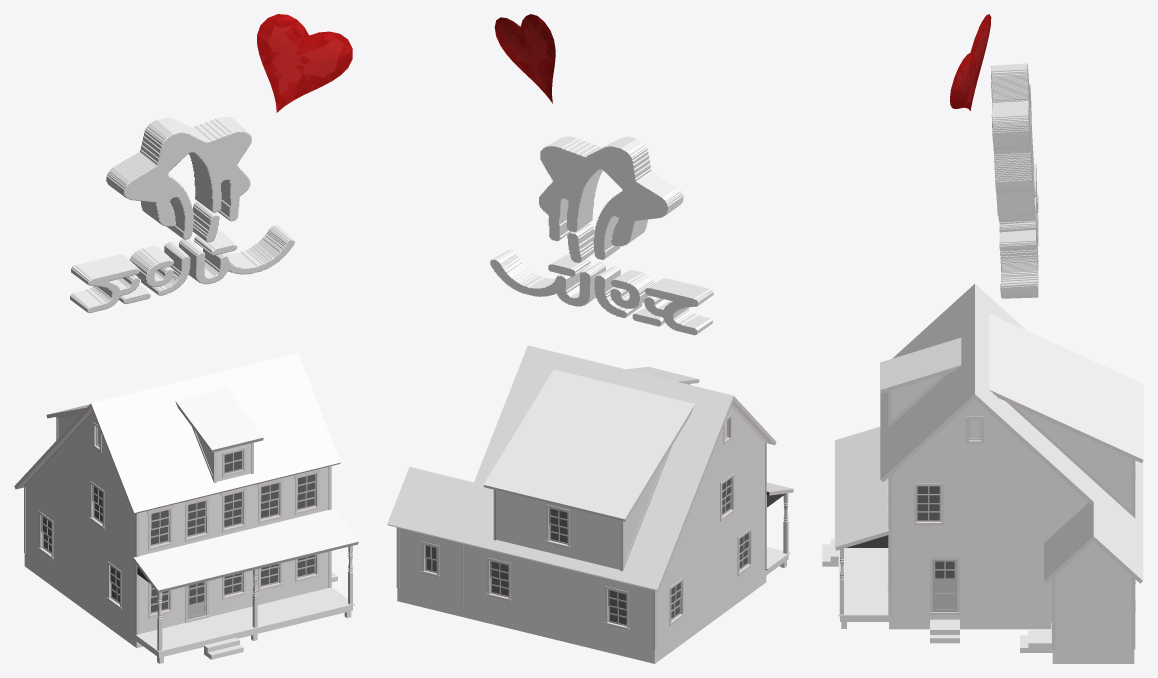
The model's file is setareyek.glb.
The picture shows the model from 3 angles, left to right: view 1: azimuth 30°, elevation 25°; view 2: azimuth 150°, elevation 25°; view 3: azimuth 270°, elevation 25°; orthographic projection. The views are drawn at different scales.
Parts seen in each view (by area): view 1: Layer0_001, Logotype Pb Color Size 4, Line002, Component#1_005, Component#1_017, Component#1_001, Component#1_013, Component#1_007, Component#3_001, Component#6_001, Component#2_005, Component#2_001 (+5 smaller); view 2: Layer0_001, Logotype Pb Color Size 4, Line002, Component#2_011, Component#2_009, Component#2_007, Component#5_001, Component#2_005, Component#2_001, Component#2_003; view 3: Layer0_001, Logotype Pb Color Size 4, Line002, Component#4_003, Component#2_013, Component#7_002.
Part boxes in pixels (left/top/right/bottom): Layer0_001: left=14, top=353, right=358, bottom=663; Logotype Pb Color Size 4: left=70, top=116, right=294, bottom=313; Line002: left=257, top=14, right=352, bottom=112; Component#1_005: left=147, top=504, right=173, bottom=550; Component#1_017: left=257, top=478, right=283, bottom=523; Component#1_001: left=184, top=495, right=210, bottom=541; Component#1_013: left=294, top=469, right=320, bottom=514; Component#1_007: left=220, top=486, right=246, bottom=532; Component#3_001: left=185, top=581, right=209, bottom=622; Component#6_001: left=222, top=447, right=245, bottom=477; Component#2_005: left=106, top=561, right=121, bottom=610; Component#2_001: left=38, top=511, right=53, bottom=559; Layer0_001: left=387, top=345, right=793, bottom=663; Logotype Pb Color Size 4: left=490, top=136, right=713, bottom=335; Line002: left=494, top=14, right=555, bottom=103; Component#2_011: left=545, top=504, right=570, bottom=549; Component#2_009: left=604, top=586, right=629, bottom=630; Component#2_007: left=486, top=557, right=511, bottom=601; Component#5_001: left=421, top=541, right=439, bottom=577; Component#2_005: left=737, top=527, right=752, bottom=576; Component#2_001: left=669, top=577, right=684, bottom=625; Component#2_003: left=720, top=473, right=735, bottom=521; Layer0_001: left=822, top=284, right=1143, bottom=663; Logotype Pb Color Size 4: left=991, top=63, right=1038, bottom=298; Line002: left=950, top=14, right=991, bottom=110; Component#4_003: left=929, top=557, right=960, bottom=614; Component#2_013: left=913, top=483, right=944, bottom=525; Component#7_002: left=966, top=416, right=983, bottom=443.
Bounding box in the file's own units: 12.8 × 25.07 × 11.97.
Materials: 14 (3 with a texture image).
